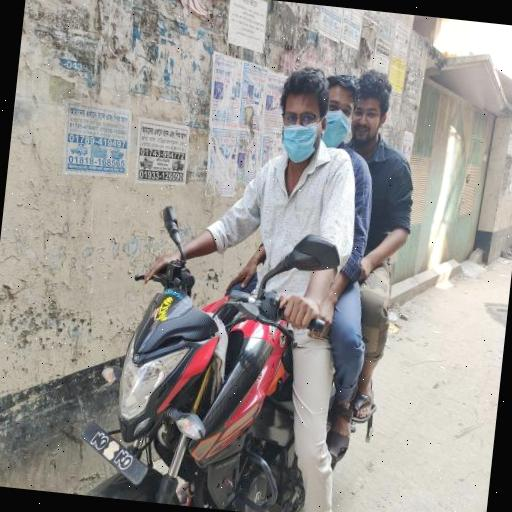no helmet: (262, 70, 345, 205)
triple riding: (74, 18, 436, 512)
